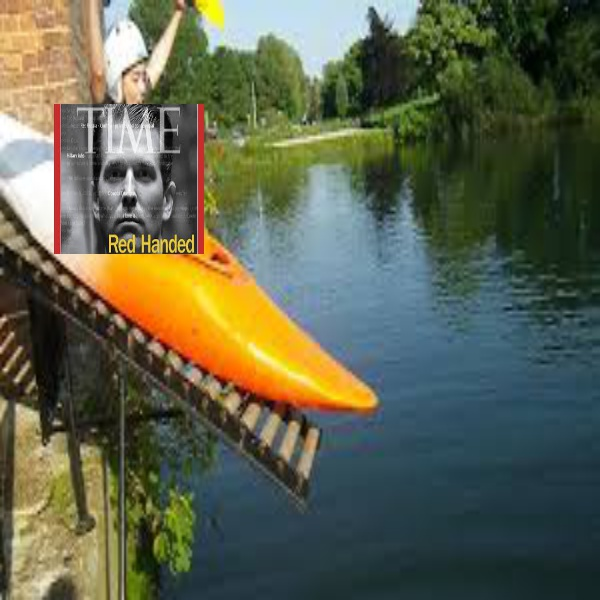time_cover: (47, 97, 211, 256)
